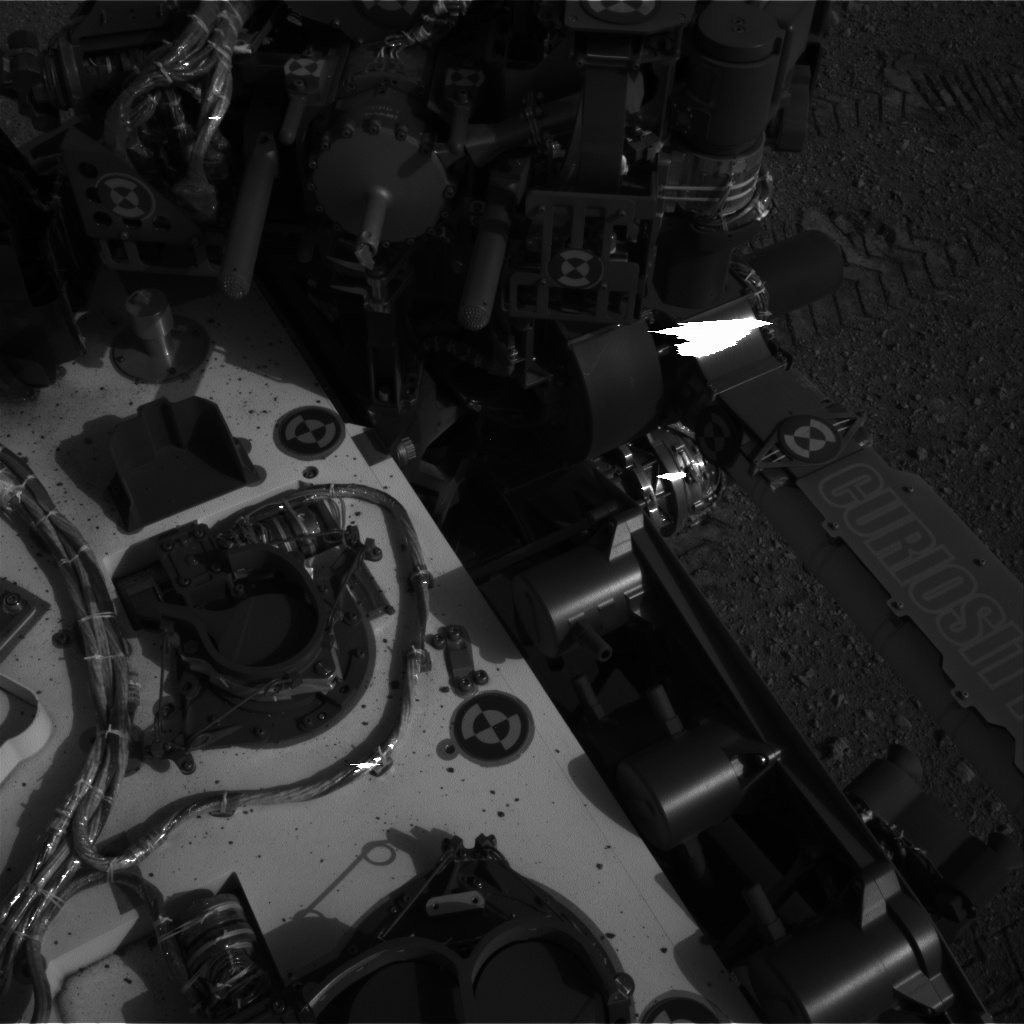soil: (836, 16, 1018, 506), (724, 549, 875, 736)
